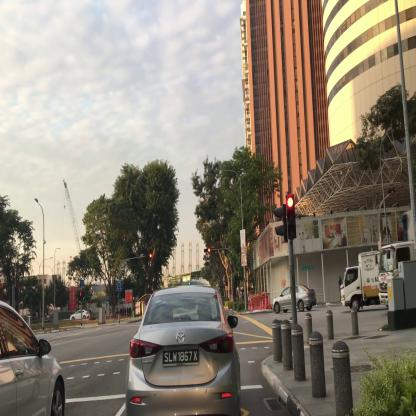red_traffic_light: (286, 196, 296, 238), (145, 254, 152, 258), (203, 248, 210, 251)
